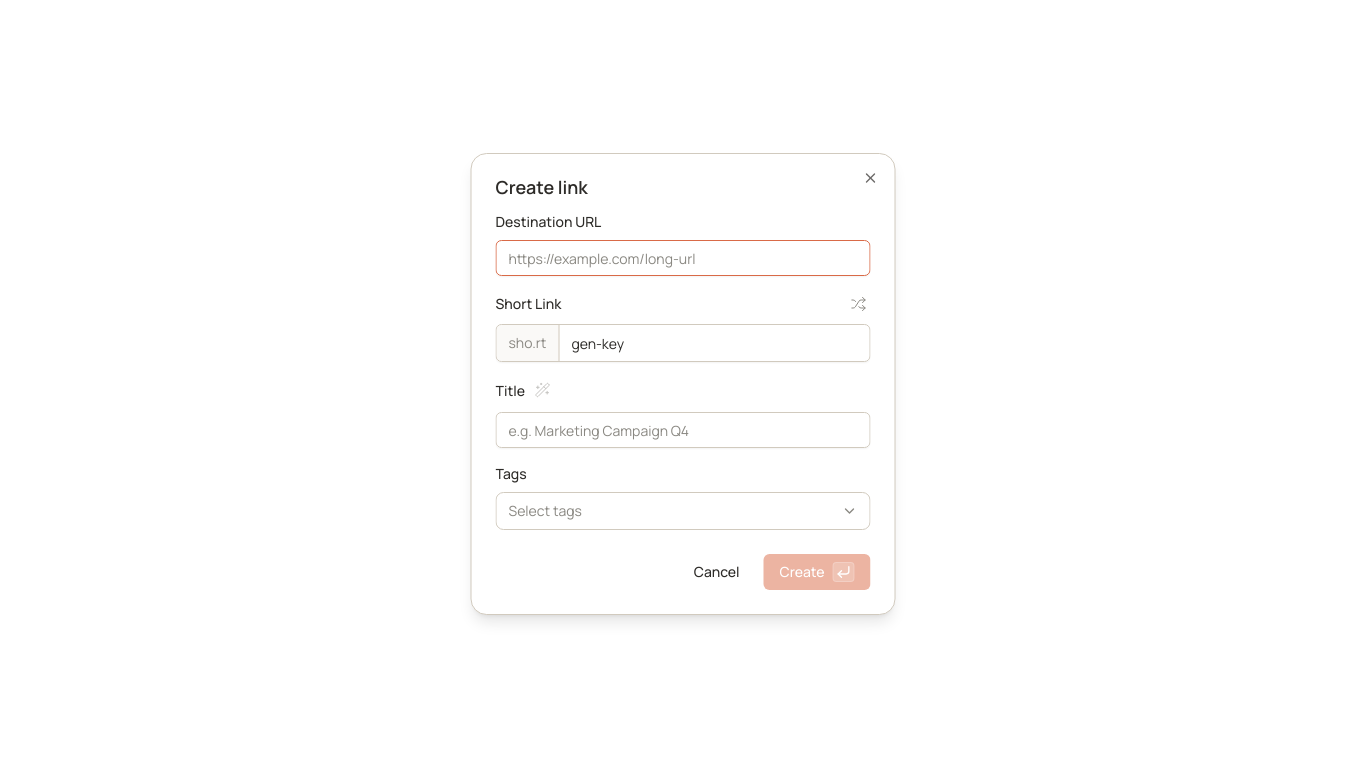
Test: CreateLinkModal › sends the selected tags with the new link
This screenshot has width=1366, height=768.
Click the button "Select tags": coordinates (545, 510) 496,492 -> 870,530
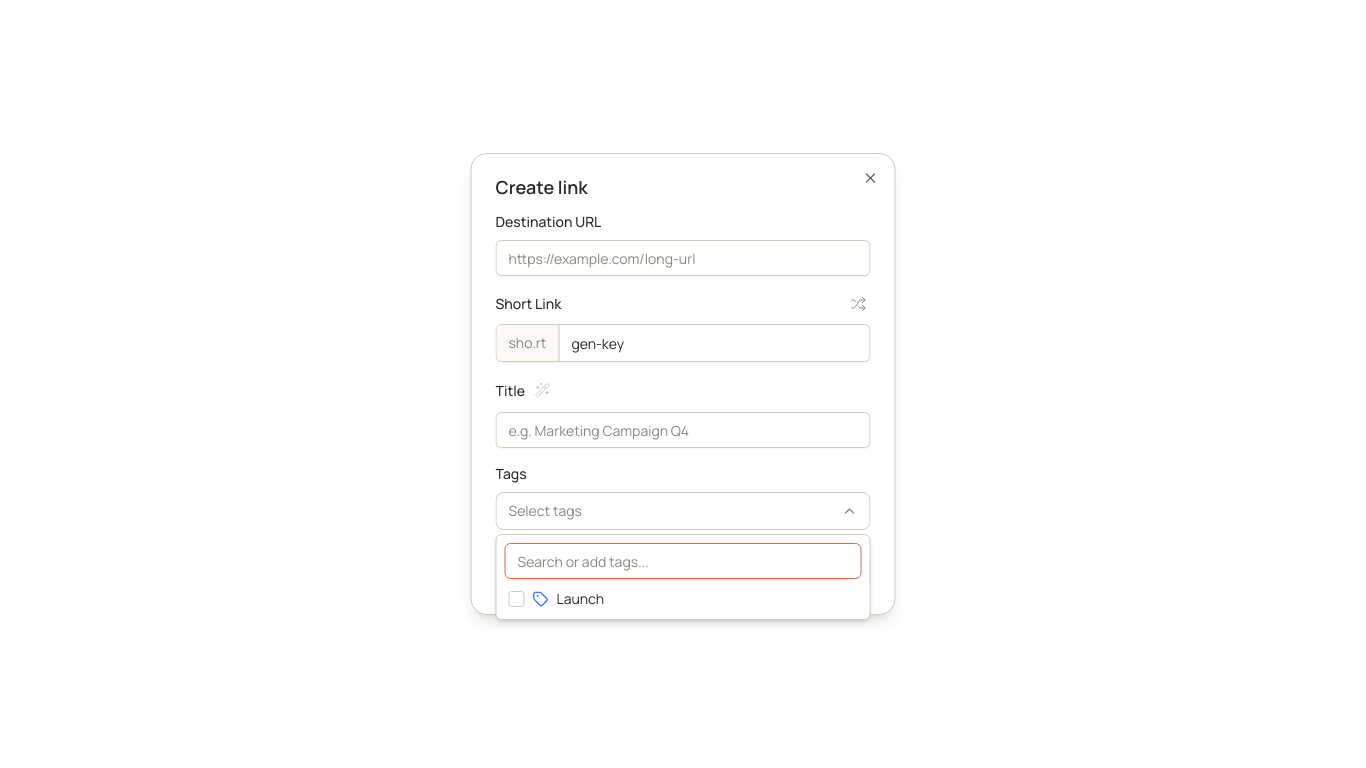
Click the option "Launch": coordinates (580, 598) 500,583 -> 866,615
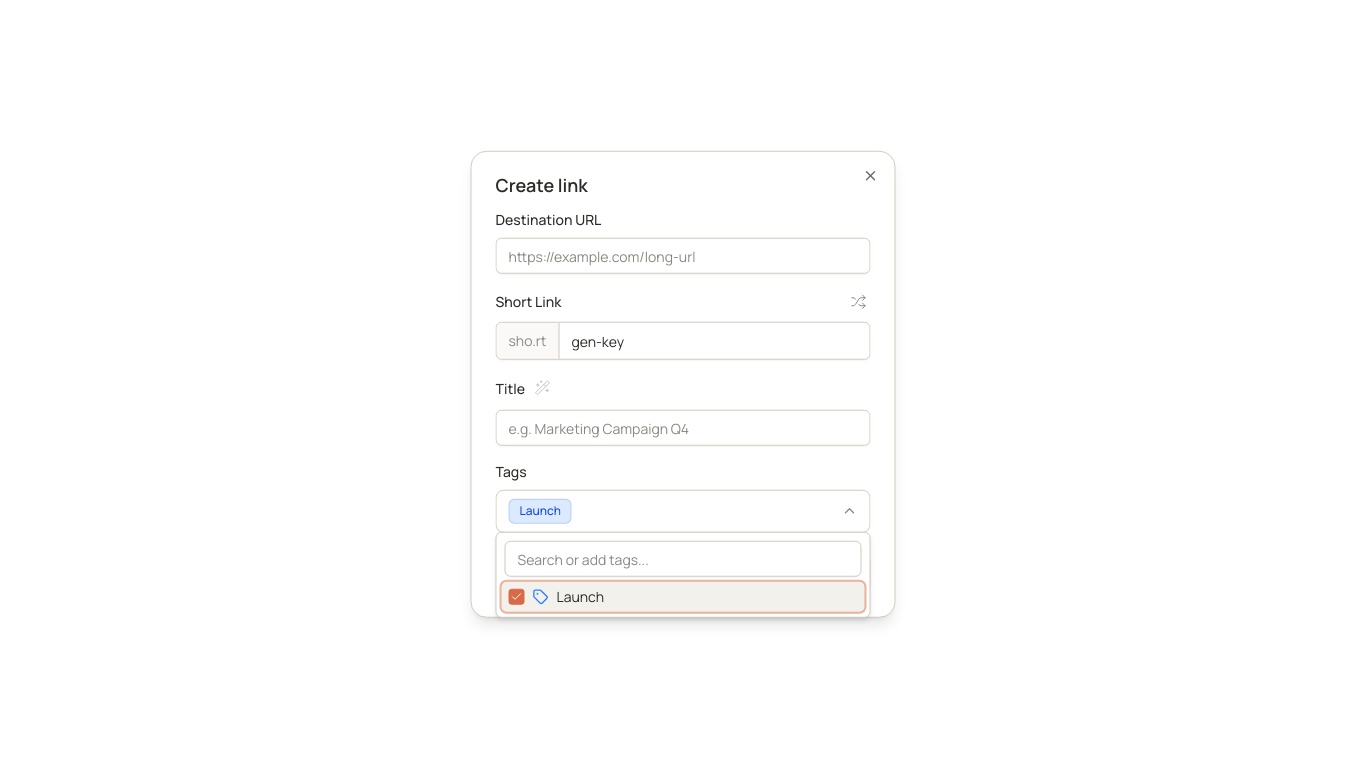
In the field labelled "Destination URL": coordinates (683, 256) 496,238 -> 870,274, type "https://example.com/article"
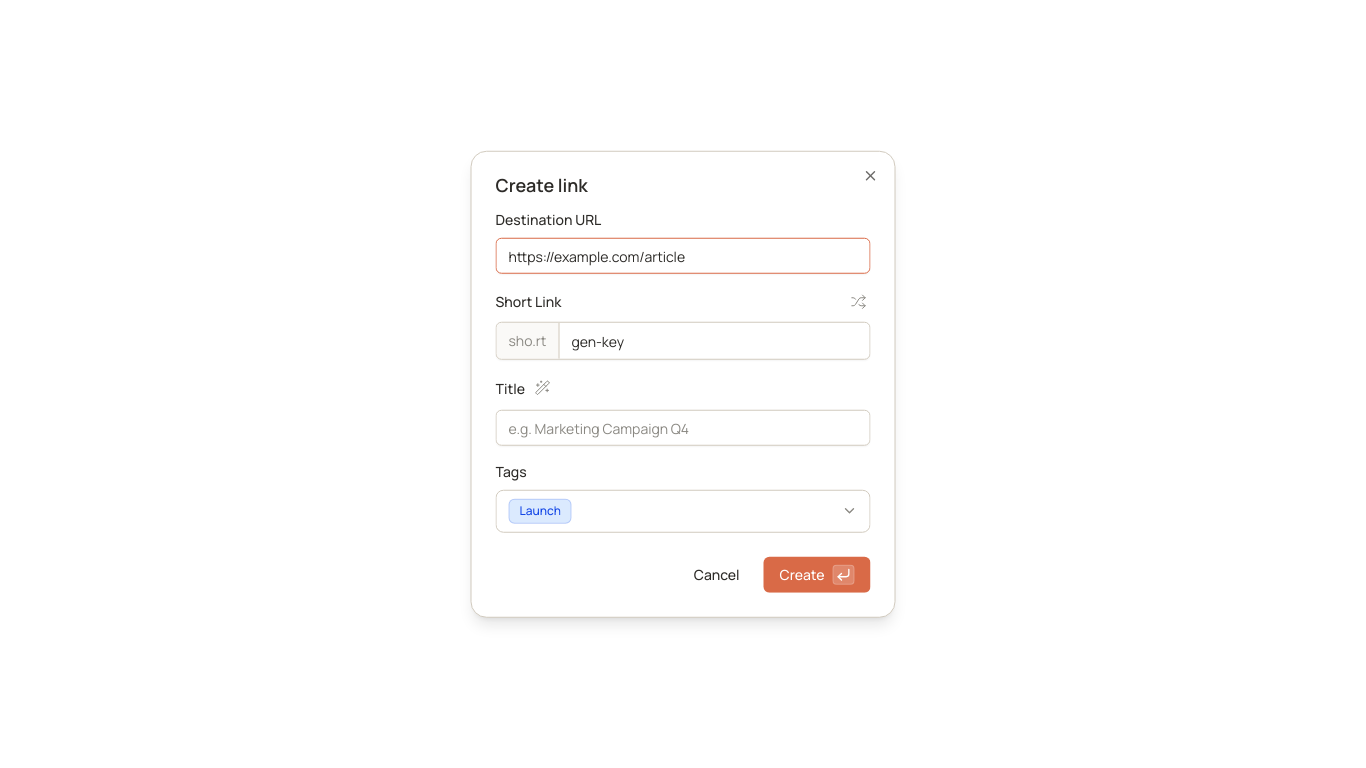
Expected: the field labelled "Short Link" holds "gen-key", 559,323 -> 870,359
Click the button "Create": coordinates (817, 574) 764,556 -> 870,592
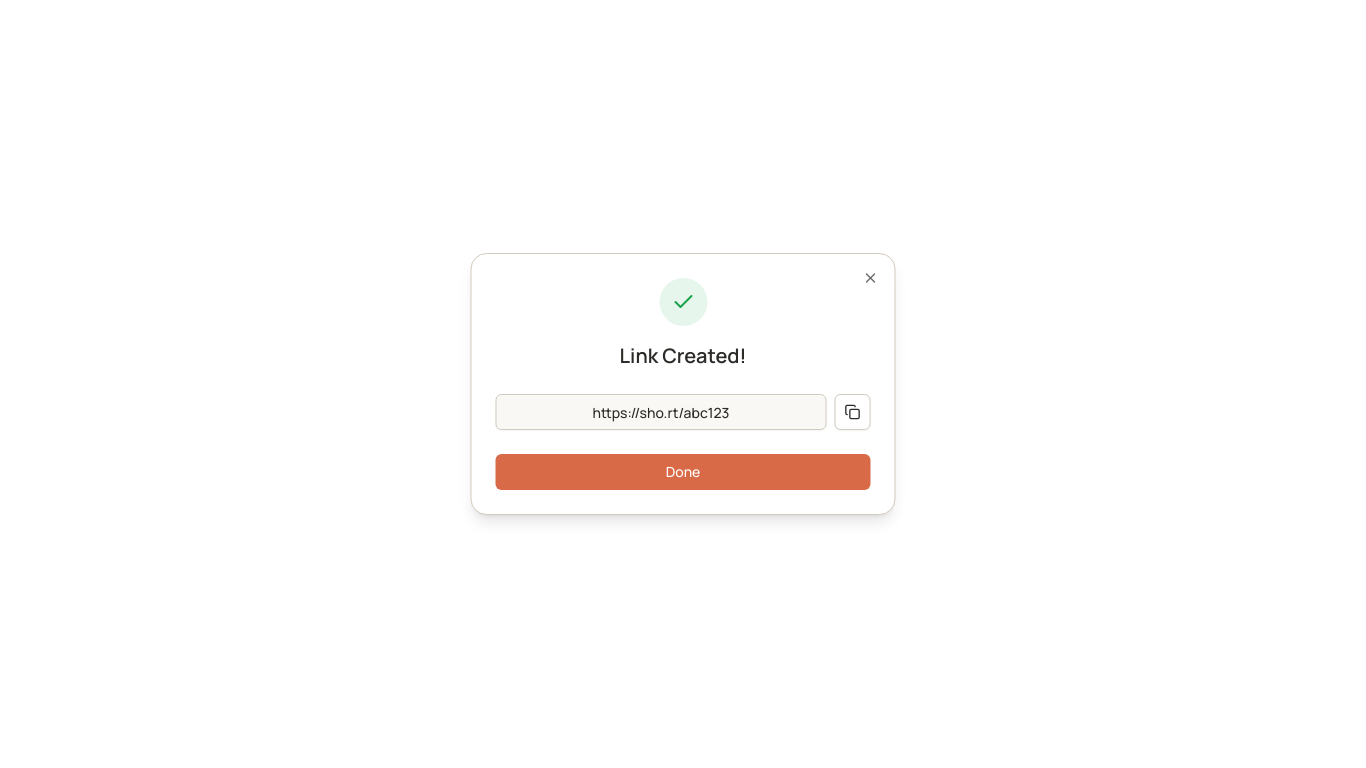
Now the heading "Link Created!" is shown, box 620,342 -> 746,369
